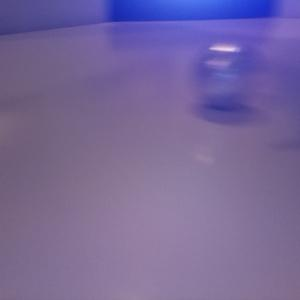alive_ball: (194, 42, 268, 110)
